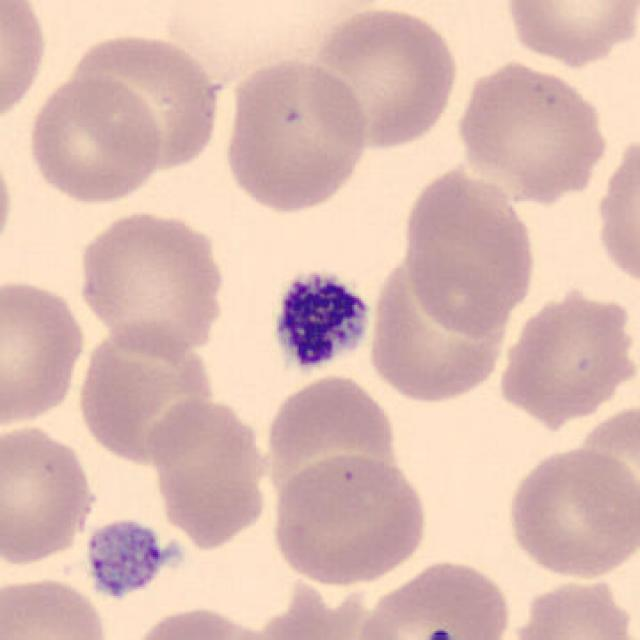Platelets: (265, 262, 377, 376), (80, 515, 174, 605), (423, 627, 457, 640)
RBC: (398, 159, 540, 335), (218, 55, 372, 215), (66, 27, 226, 176), (73, 206, 229, 358), (306, 3, 462, 154), (452, 56, 612, 203), (267, 450, 432, 587), (494, 282, 638, 425), (262, 370, 404, 513), (368, 269, 506, 409), (25, 70, 165, 206), (503, 442, 637, 582), (155, 396, 278, 547), (84, 325, 220, 461), (0, 420, 100, 570), (0, 273, 89, 430), (352, 555, 516, 640), (500, 0, 638, 71), (505, 575, 640, 640), (590, 127, 640, 298), (0, 573, 112, 640), (0, 0, 50, 130), (124, 603, 274, 640), (0, 140, 18, 266)
